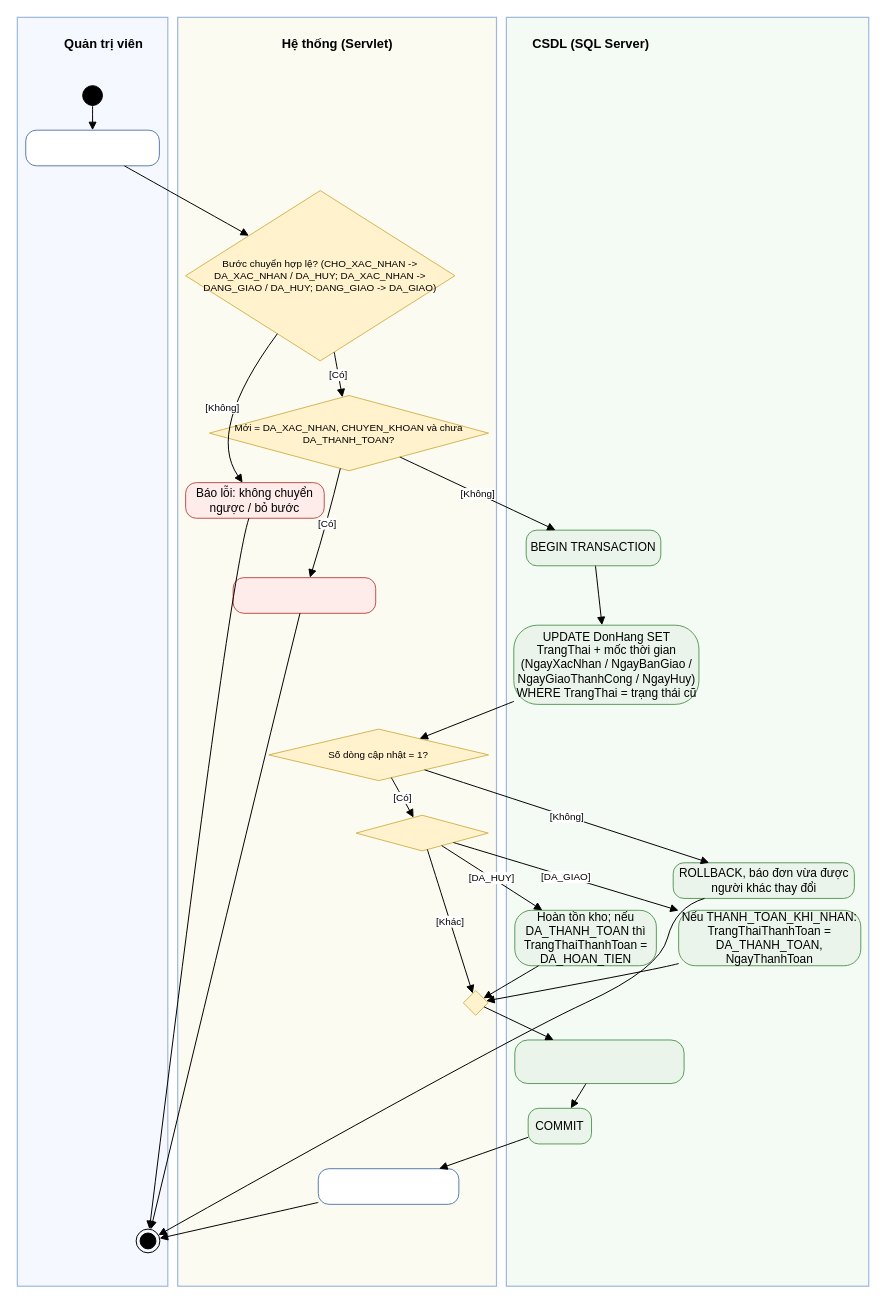
Image size: 887x1304. Some labels were removed from this diagram. Each missing label, with the box of its shape:
Báo lỗi: chưa xác nhận nhận tiền (xem AD23): (232, 577, 376, 613)
INSERT LichSuTrangThaiDon (cũ -> mới, NguoiThucHien = admin): (514, 1039, 684, 1084)
Mở chi tiết đơn, chọn trạng thái mới: (25, 129, 159, 166)
Thông báo thành công: (317, 1168, 459, 1204)
Trạng thái mới?: (355, 814, 488, 851)
